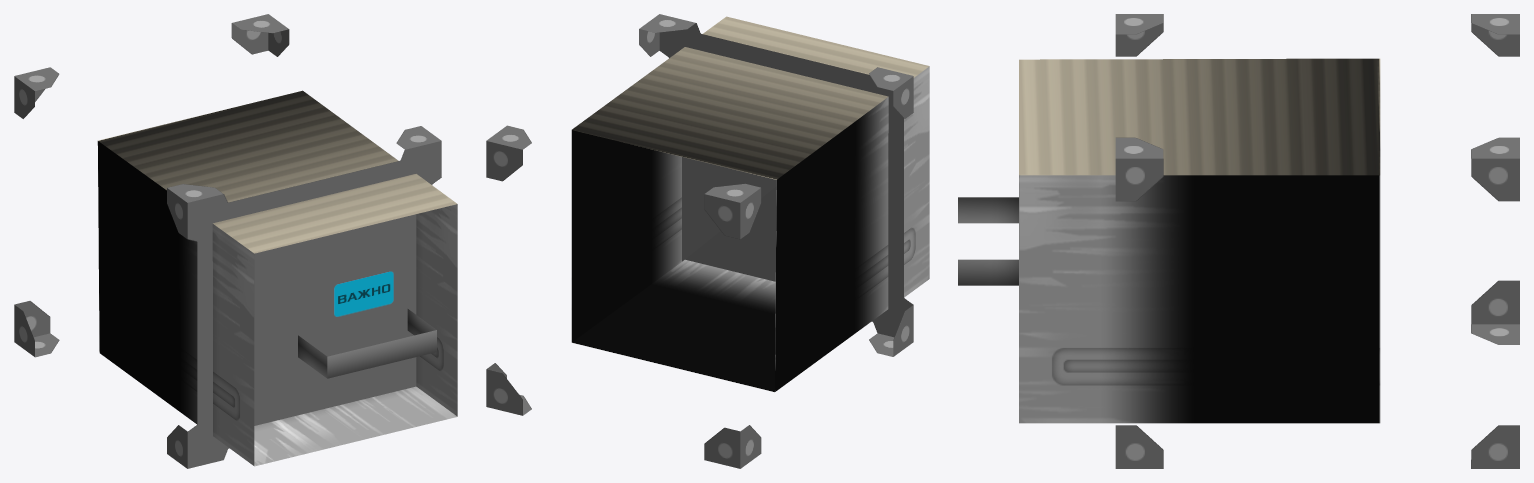
The model's file is obj_interactive_filecabinet_open_lod1.fbx.
3 views of the same model, side by side, from view 1: azimuth 30°, elevation 25°; view 2: azimuth 150°, elevation 25°; view 3: azimuth 270°, elevation 25° (orthographic). The views are drawn at different scales.
Visible parts, largest first — view 1: obj_interactive_filecabinet_open_lod1; view 2: obj_interactive_filecabinet_open_lod1; view 3: obj_interactive_filecabinet_open_lod1.
Part boxes in pixels (left/top/right/bottom): obj_interactive_filecabinet_open_lod1: left=14, top=14, right=457, bottom=468; obj_interactive_filecabinet_open_lod1: left=486, top=14, right=929, bottom=468; obj_interactive_filecabinet_open_lod1: left=958, top=14, right=1519, bottom=468.
Bounding box in the file's own units: 2 × 2 × 3.28.
Materials: 1 (1 with a texture image).
